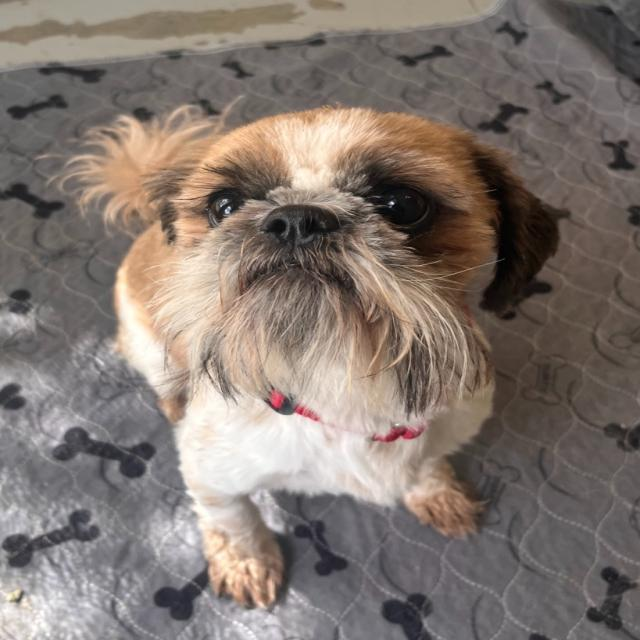shih_tzu_dog: (142, 100, 568, 414)
